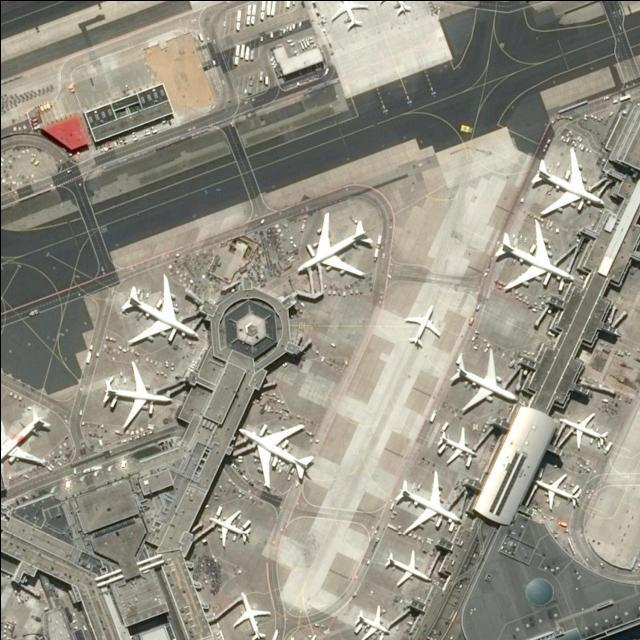Aircraft: (496, 219, 576, 291), (122, 273, 200, 345), (531, 148, 605, 219), (239, 422, 315, 490), (297, 212, 374, 278), (102, 362, 174, 430), (395, 472, 463, 537), (451, 349, 519, 413), (0, 407, 51, 483), (234, 590, 271, 640), (384, 549, 432, 586), (535, 473, 581, 511), (559, 414, 607, 450), (208, 509, 252, 548), (404, 304, 441, 348), (437, 425, 477, 464), (353, 606, 389, 640), (330, 0, 368, 30), (385, 1, 411, 17)
